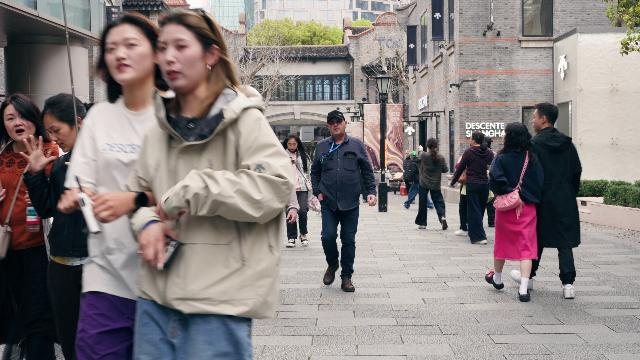person: (129, 7, 296, 360), (56, 12, 176, 360), (20, 92, 92, 360), (0, 92, 62, 360), (486, 107, 567, 305), (510, 102, 582, 299), (310, 111, 377, 292), (448, 130, 495, 245), (281, 131, 313, 248), (415, 137, 449, 230), (404, 150, 417, 212)
